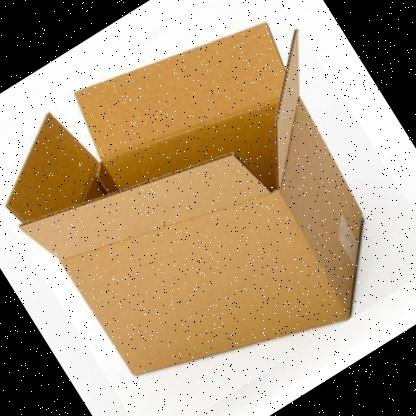box: (5, 22, 365, 375)
opened: (6, 23, 300, 261)
